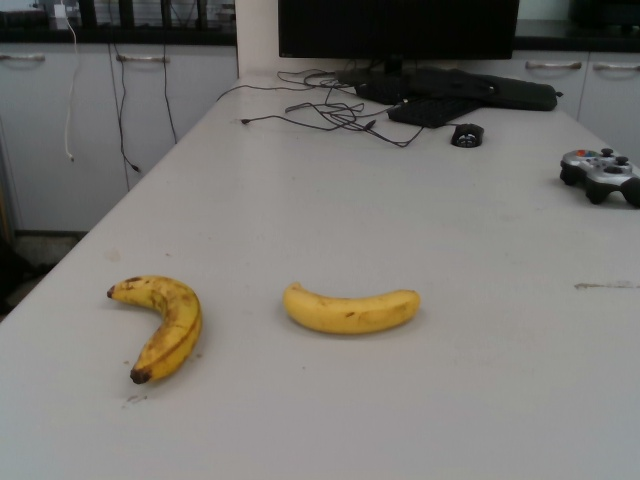banana: (108, 272, 201, 387), (277, 280, 422, 338)
